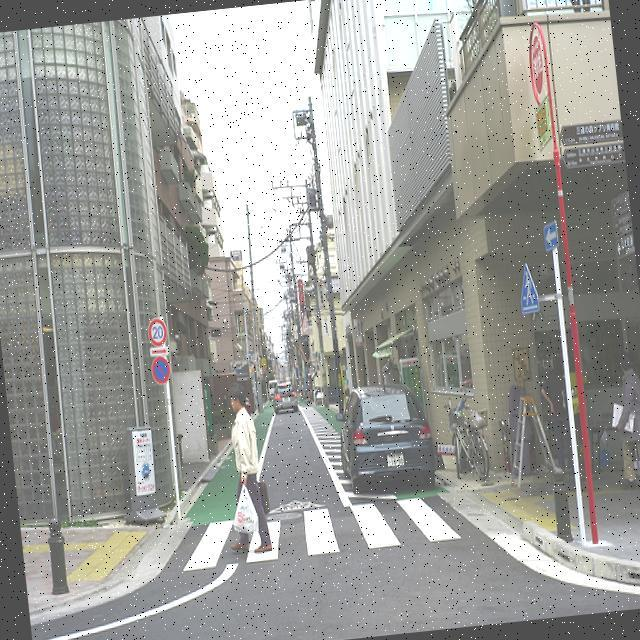fire_hydrant: (42, 515, 72, 598)
